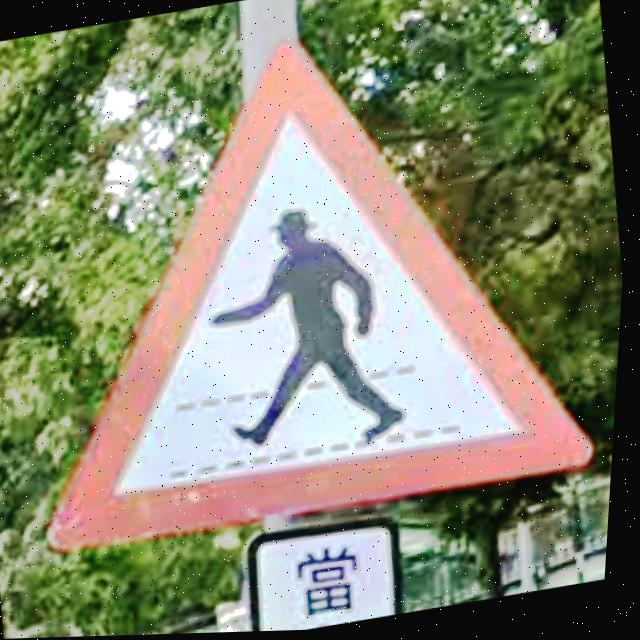pedestriancross: (58, 39, 600, 550)
